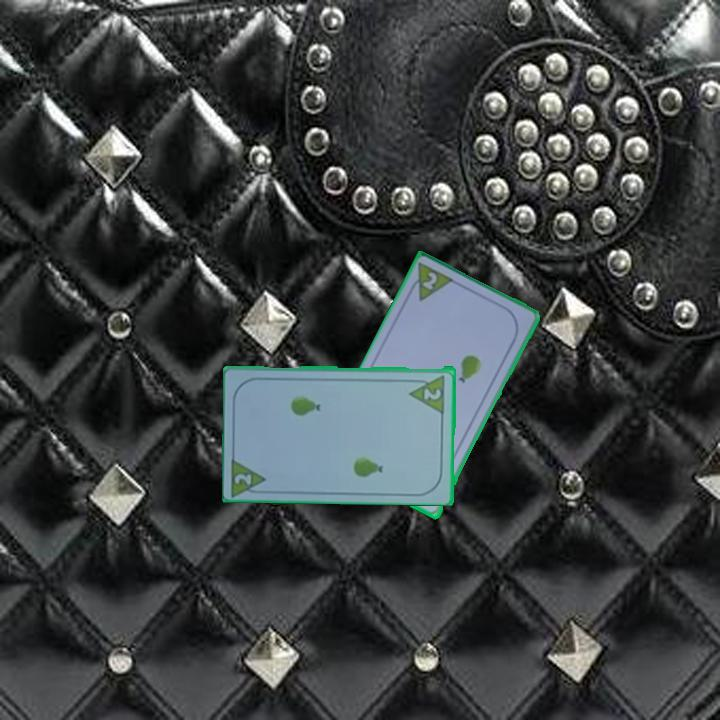2p: (229, 453, 270, 497), (407, 371, 448, 414), (419, 268, 440, 294)
